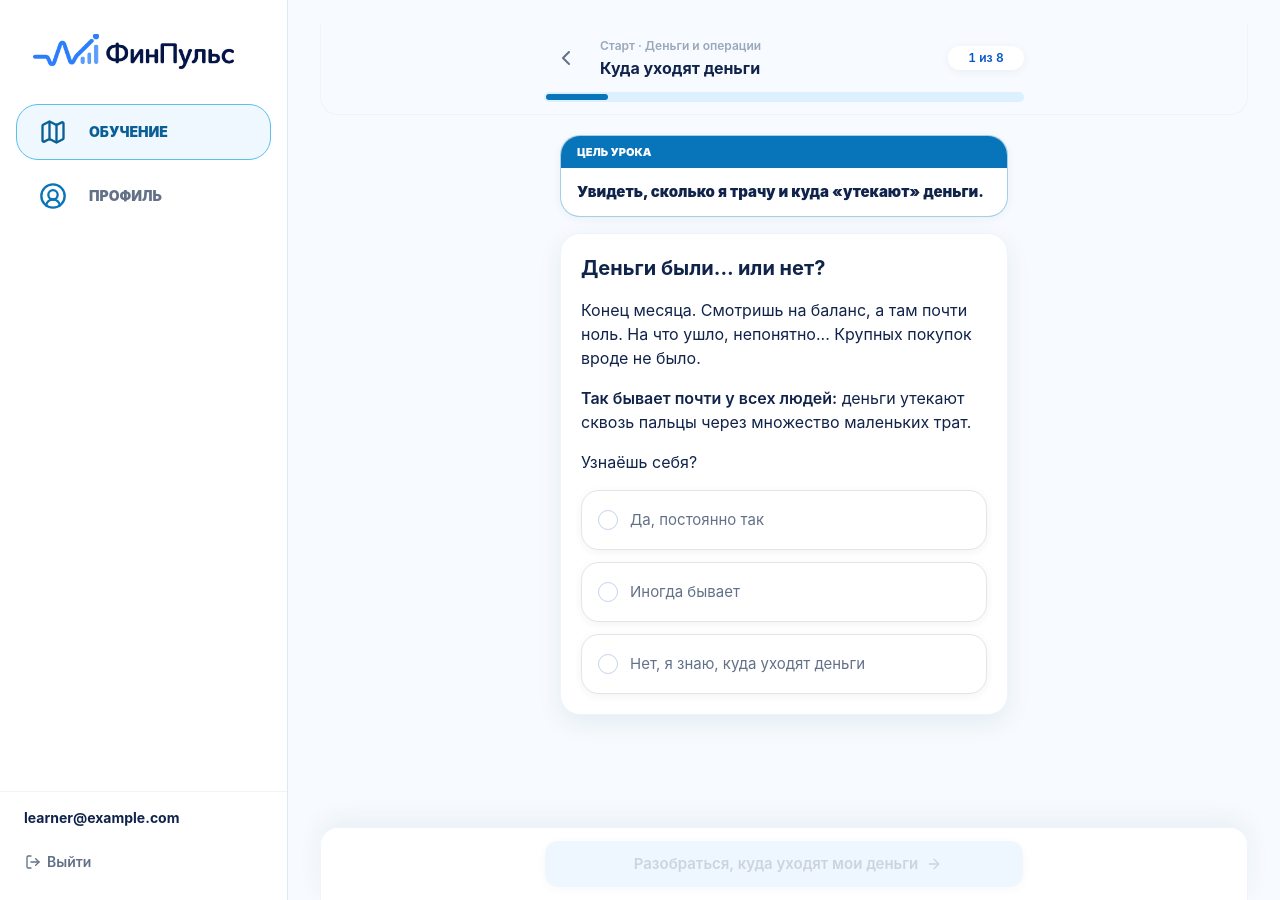
Test: App › shows selected option feedback immediately after selecting a subjective choice
Expected: the heading "Куда уходят деньги" is shown, x1=600 y1=58 x2=760 y2=78
Expected: the heading "Деньги были... или нет?" is shown, x1=581 y1=256 x2=825 y2=280
Click the radio button labelled "Да, постоянно так".
click(697, 520)  # box x1=581 y1=490 x2=987 y2=550
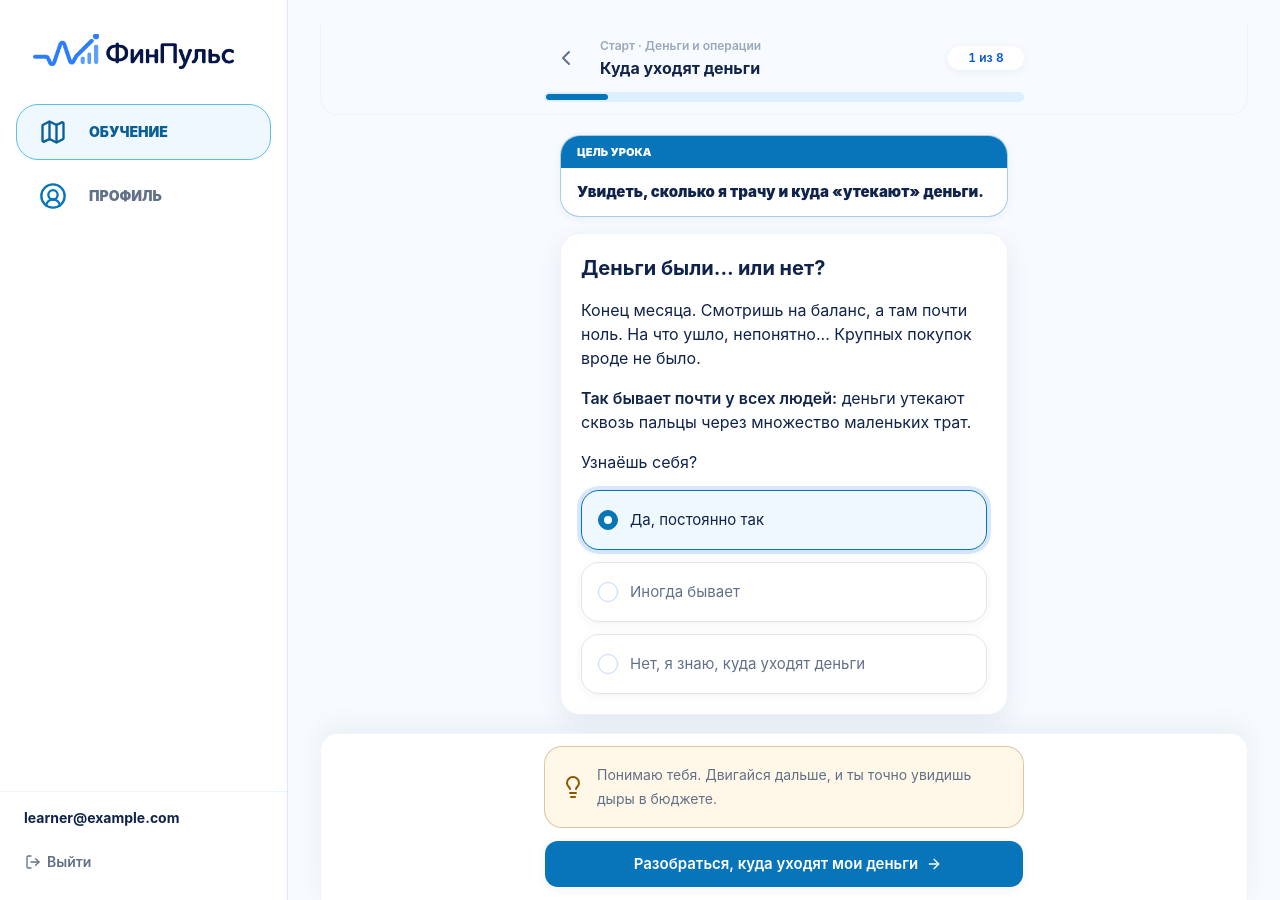
Expected: the message does not show "Есть нюанс", x1=544 y1=746 x2=1024 y2=828
Now the message reads "Понимаю тебя. Двигайся дальше, и ты точно увидишь дыры в бюджете.", box x1=597 y1=766 x2=971 y2=807
Now the button "Разобраться, куда уходят мои деньги" is enabled, box x1=544 y1=840 x2=1024 y2=888
Click the radio button labelled "Нет, я знаю, куда уходят деньги".
click(784, 664)  # box x1=581 y1=634 x2=987 y2=694
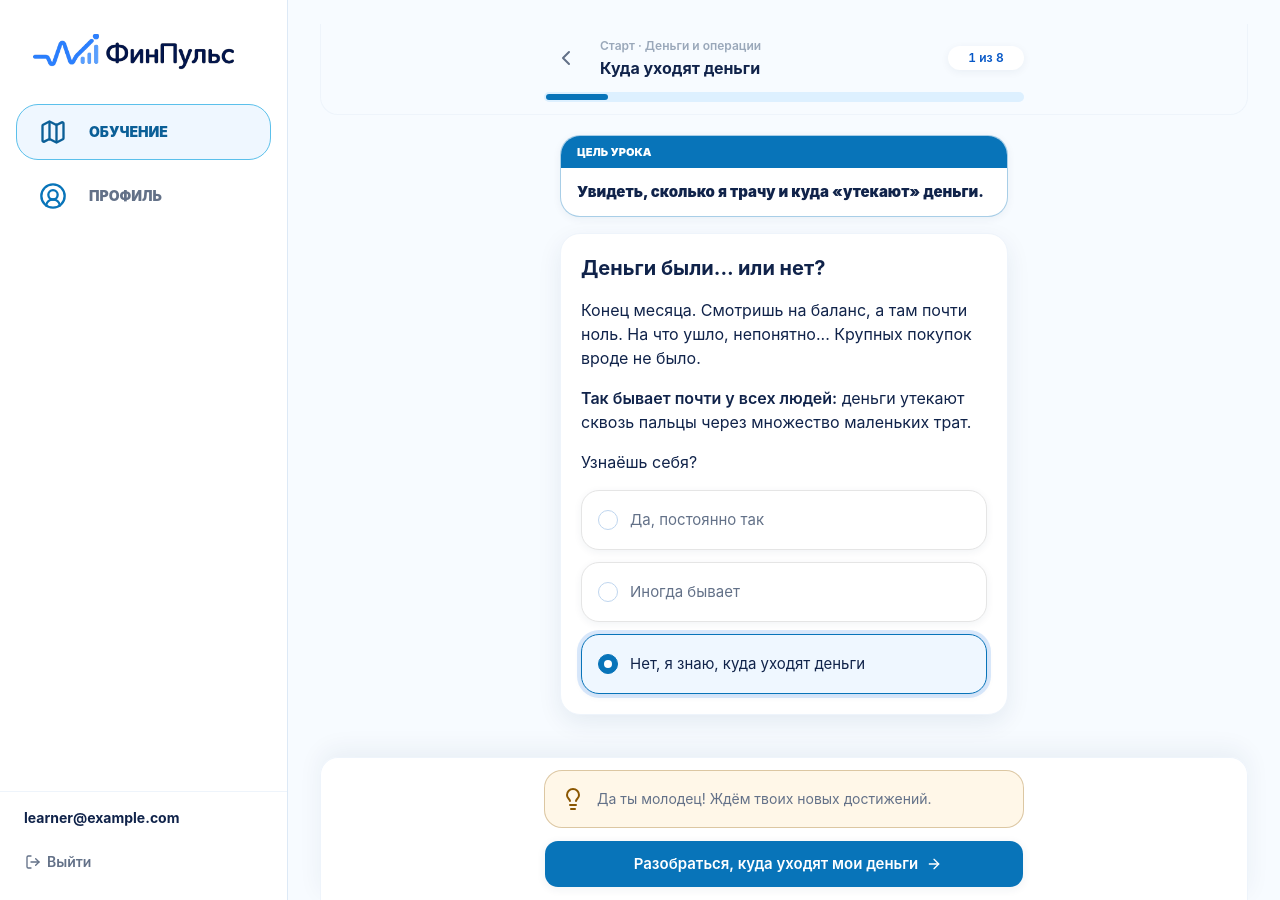
Now the message reads "Да ты молодец! Ждём твоих новых достижений.", box x1=597 y1=790 x2=932 y2=807
Now the text "Понимаю тебя. Двигайся дальше, и ты точно увидишь дыры в бюджете." is gone
